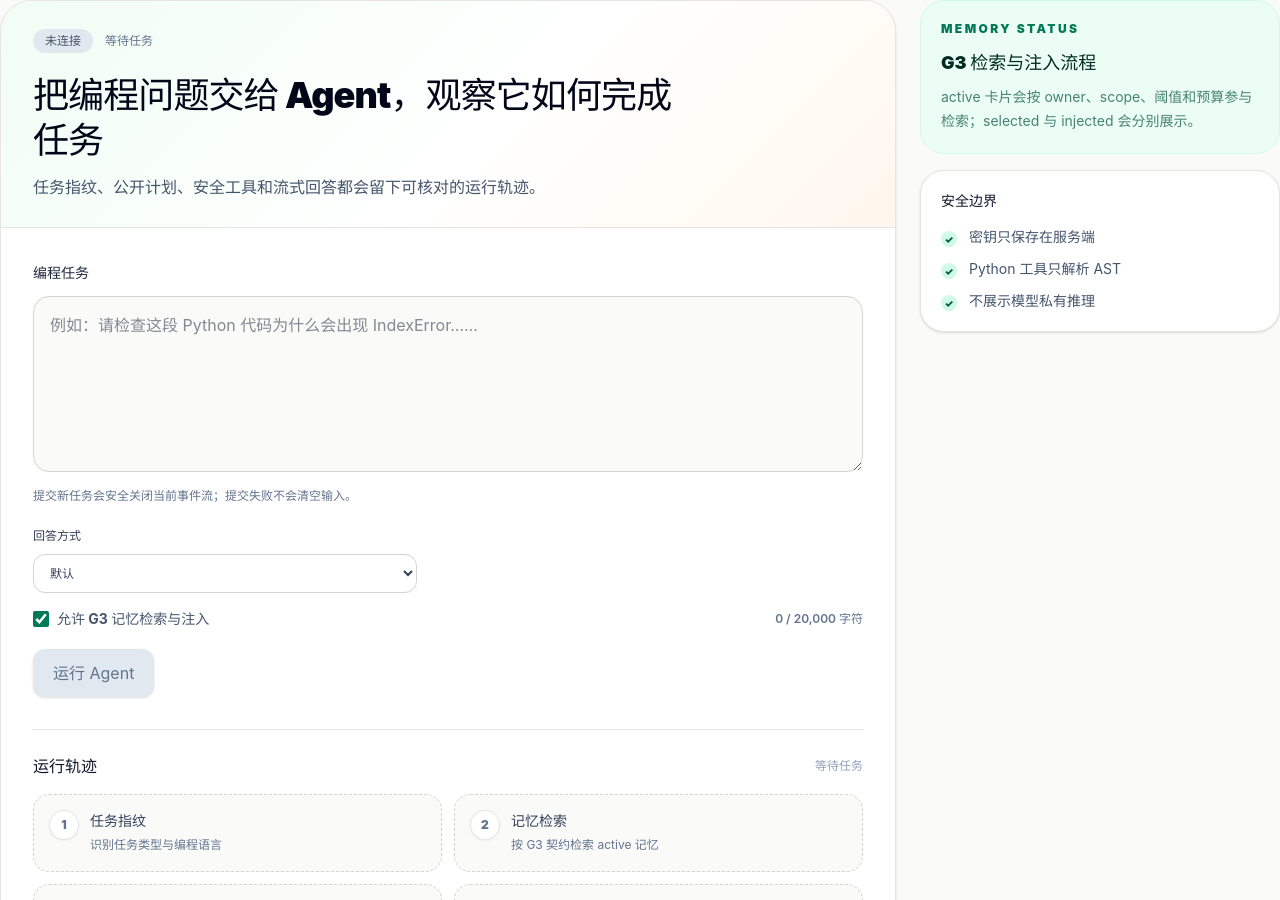
Scenario: G0 Chat experience › retains input and shows the safe REST error when submission fails
The image size is (1280, 900).
Type "不要清空这段内容" into the text box labelled "编程任务" at (448, 384), box [33,296,863,472]
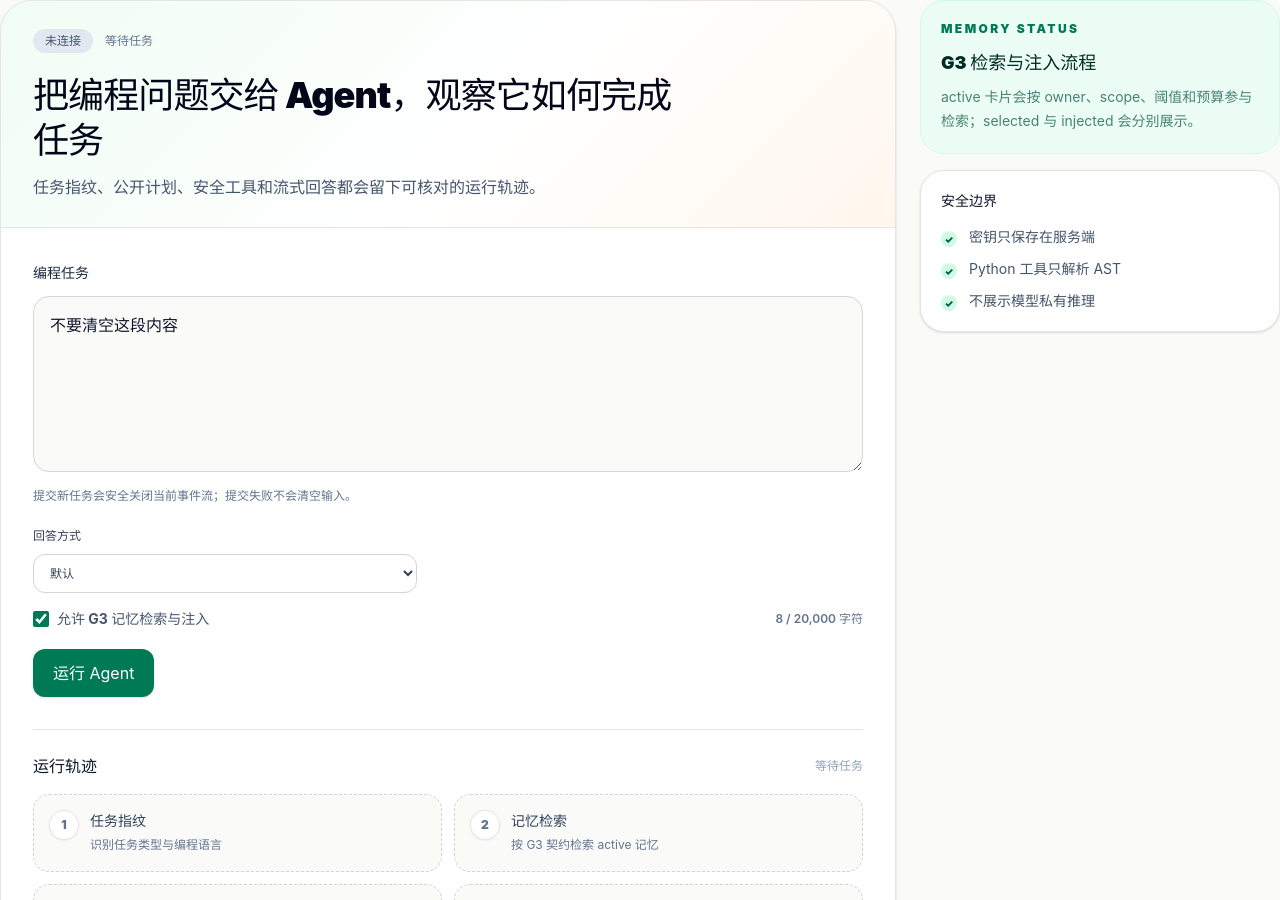
Click the button "运行 Agent" at (94, 673), box [33,649,154,697]
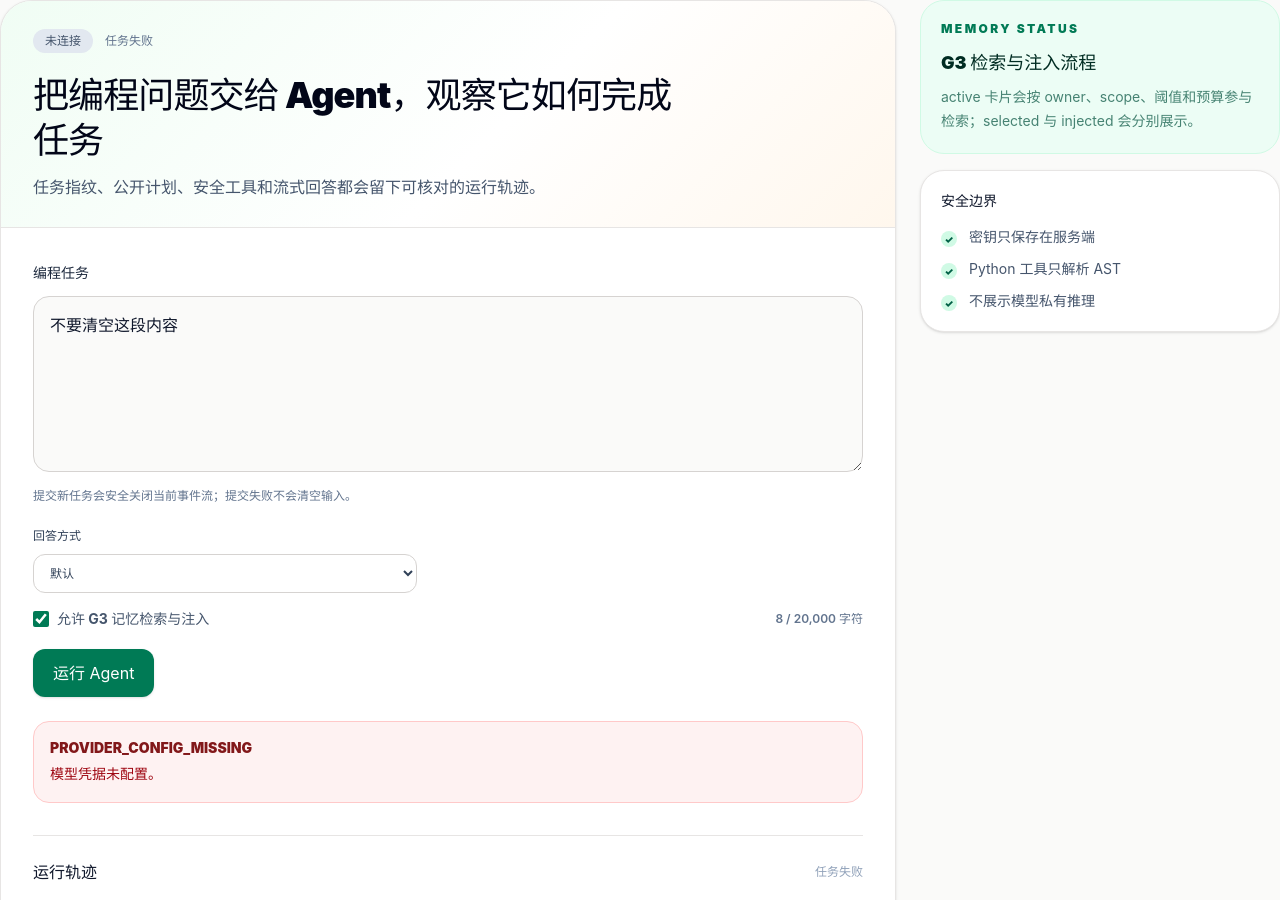
Check: the message shows "模型凭据未配置。", box [50,765,162,782]
